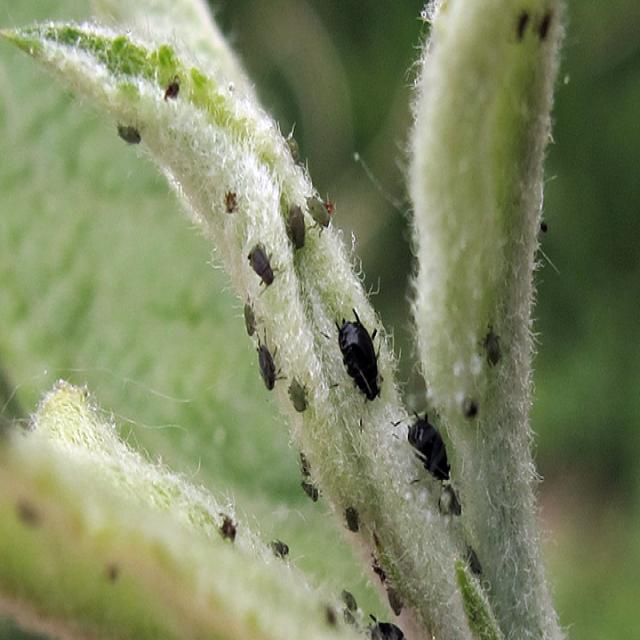Aphid-Grown-: (326, 297, 391, 413), (387, 405, 454, 487), (253, 332, 290, 402), (297, 183, 339, 241), (238, 240, 282, 292), (282, 196, 310, 262), (284, 370, 316, 416), (479, 321, 507, 372), (241, 296, 266, 341)
